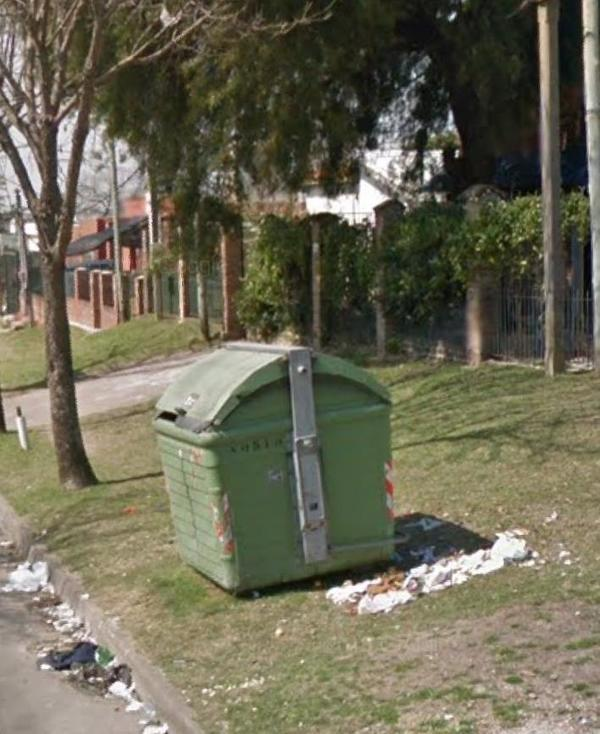Dechets: (1, 536, 168, 733), (326, 517, 544, 616)
Trash: (153, 343, 393, 593)
